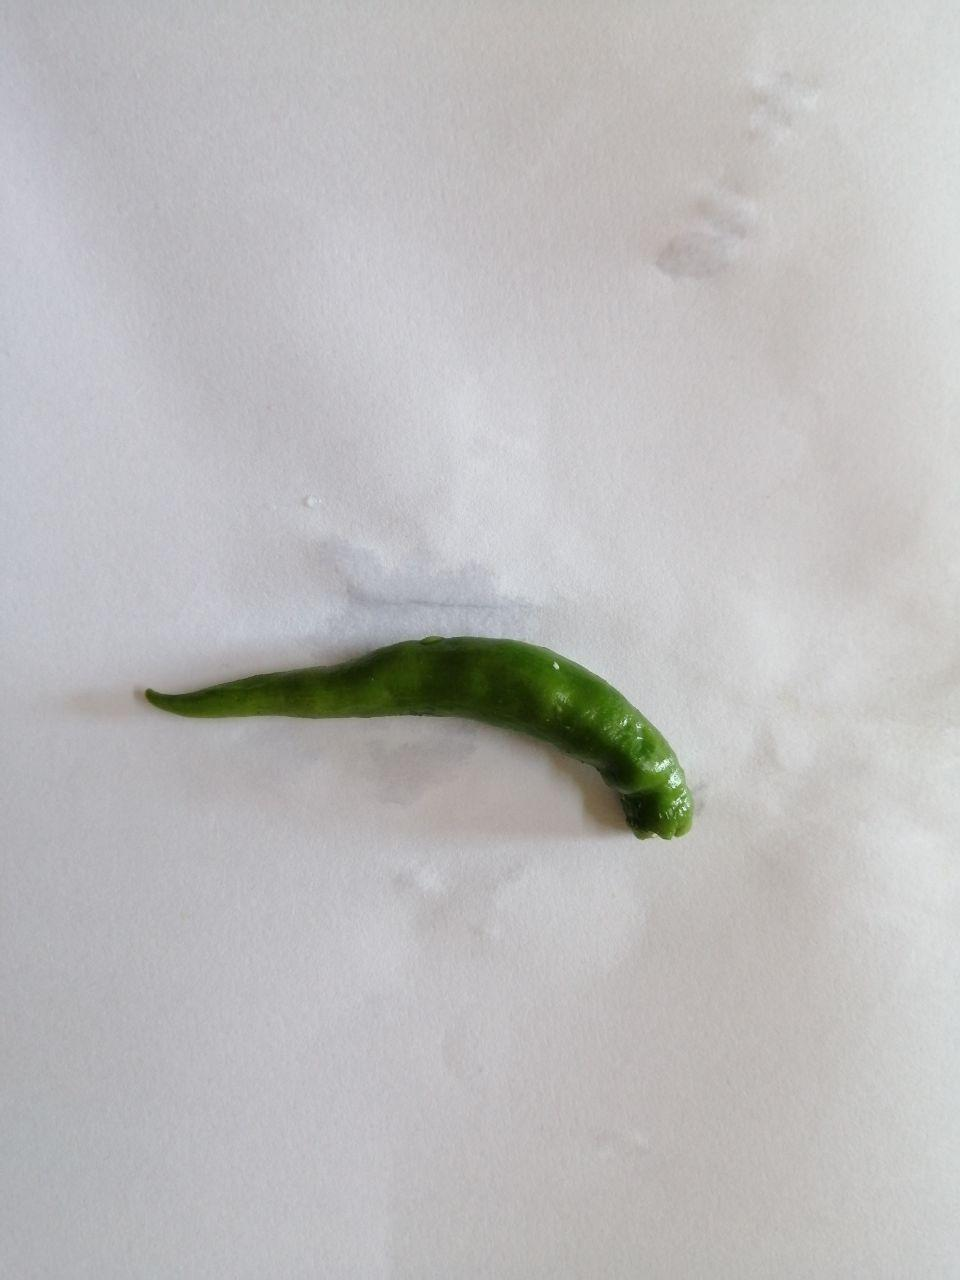lada hijau: (118, 596, 765, 866)
